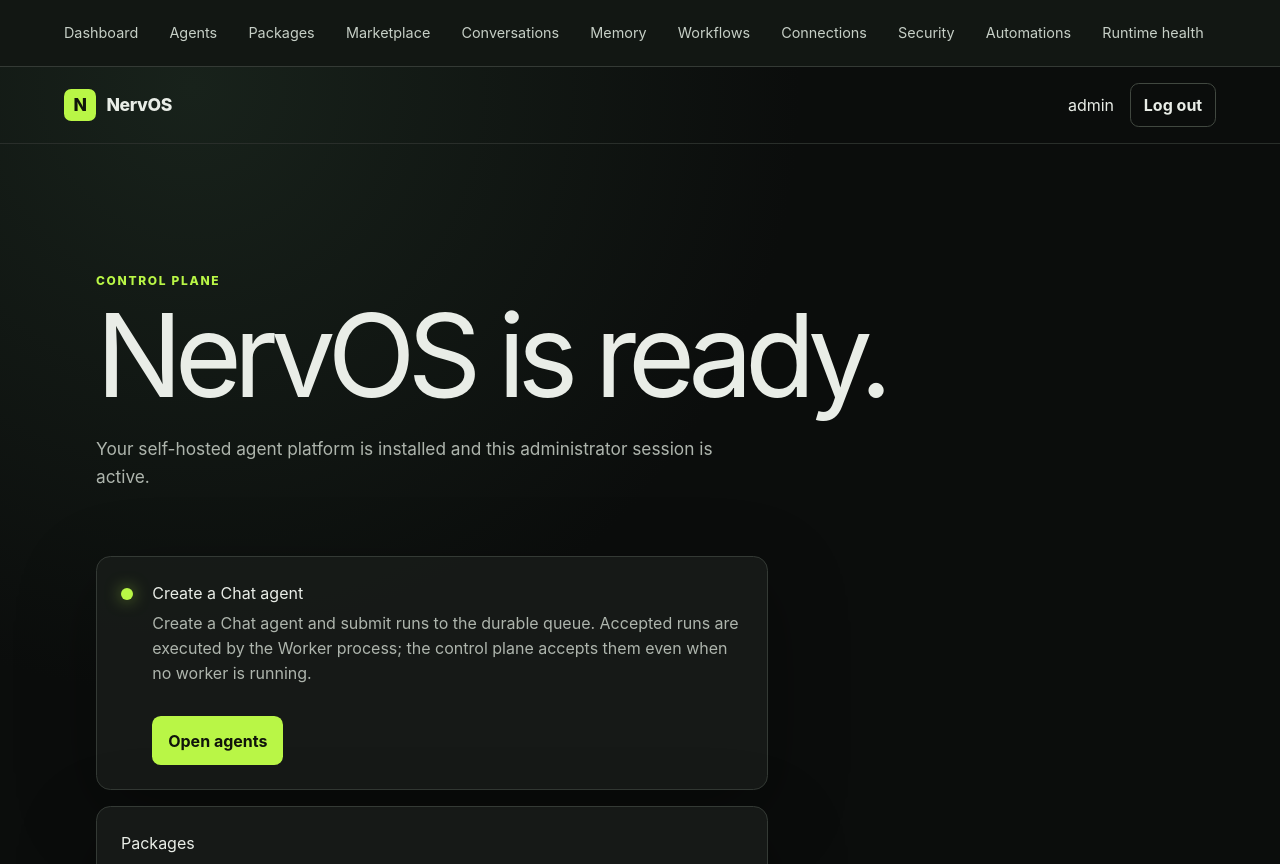
Scenario: logout › keeps the session UI on logout failure and permits retry
This screenshot has width=1280, height=864.
Check: the heading "NervOS is ready." is shown, box [96,285,885,425]
Click the button "Log out". click: (1173, 105)
box: [1130,83,1216,127]
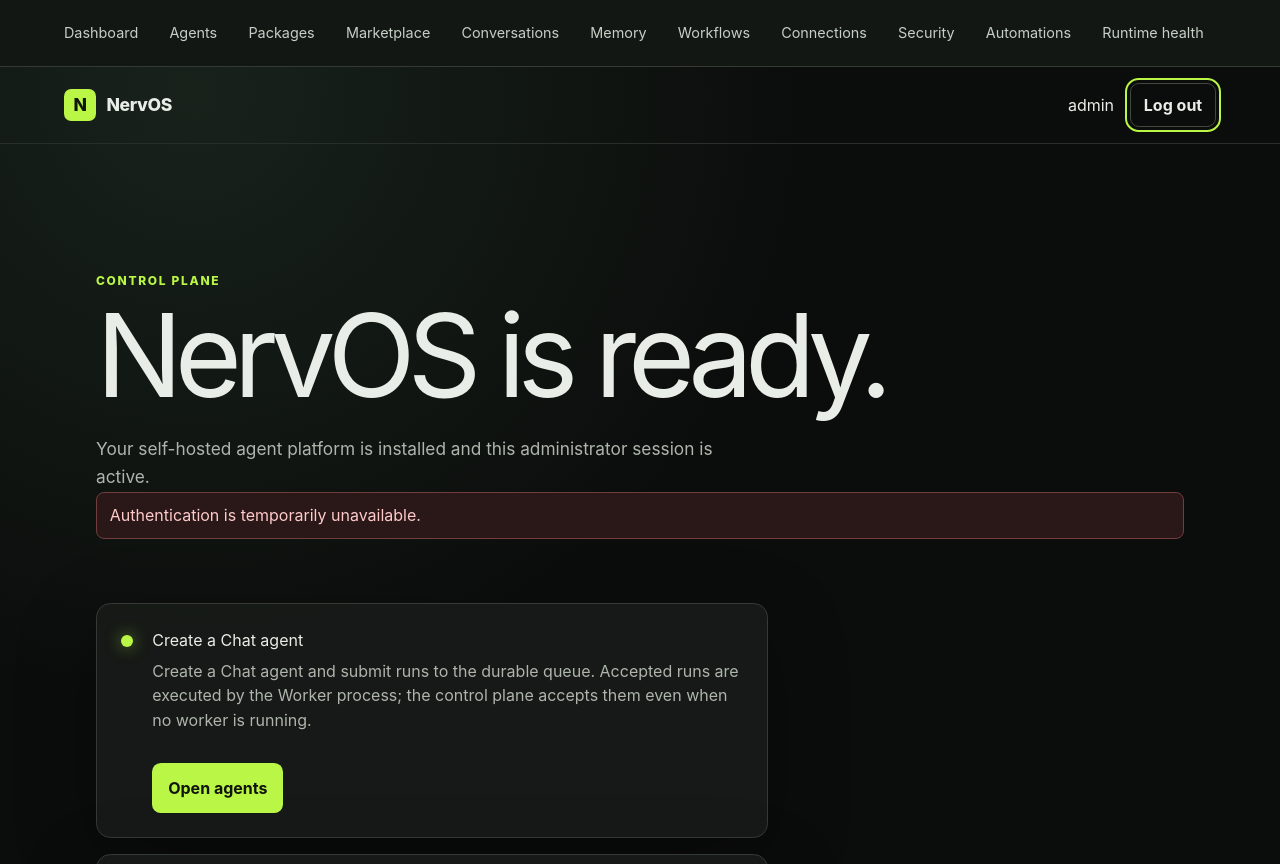
Check: the heading "NervOS is ready." is shown, box [96,285,885,425]
Check: the message shows "temporarily unavailable", box [110,505,421,525]
Click the button "Log out". click: (1173, 105)
box: [1130,83,1216,127]
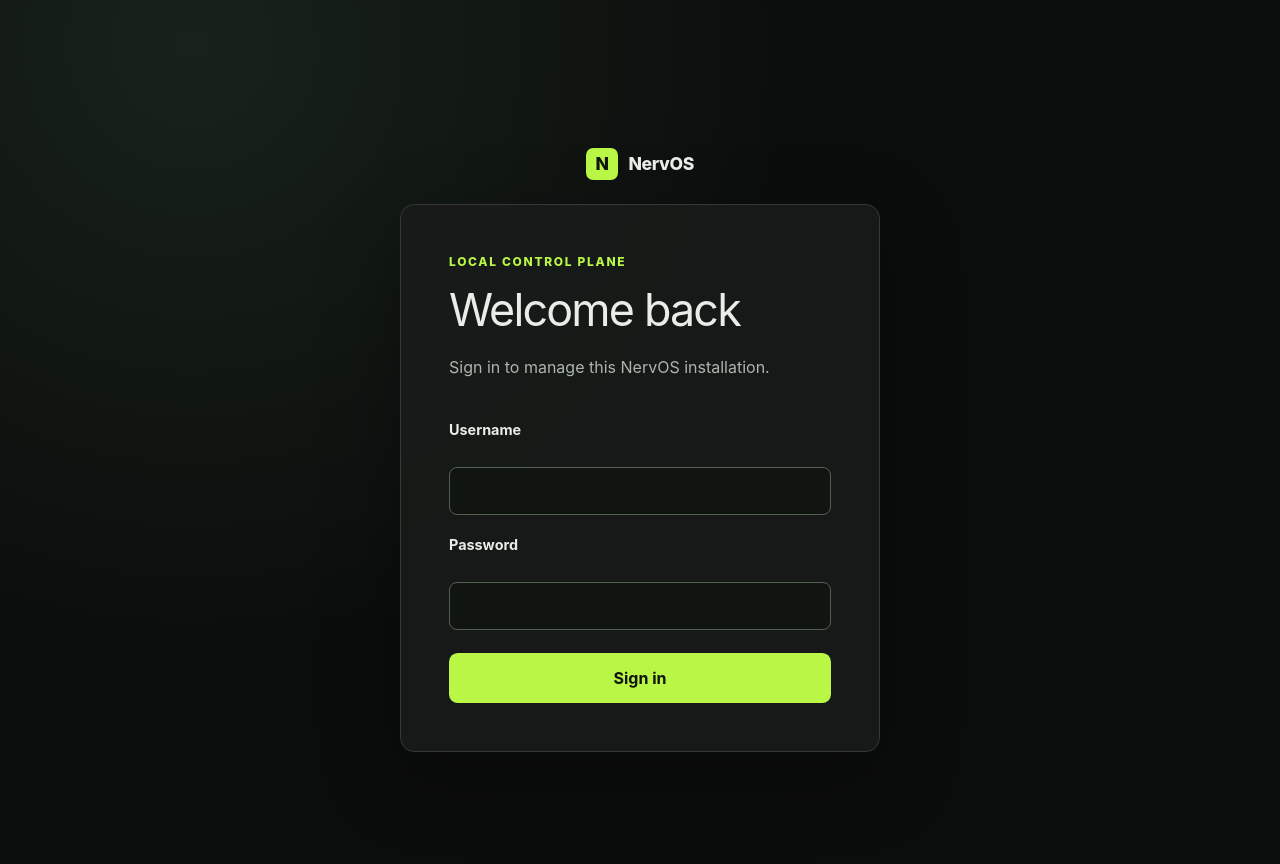
Check: the heading "Welcome back" is shown, box [449,283,740,337]
